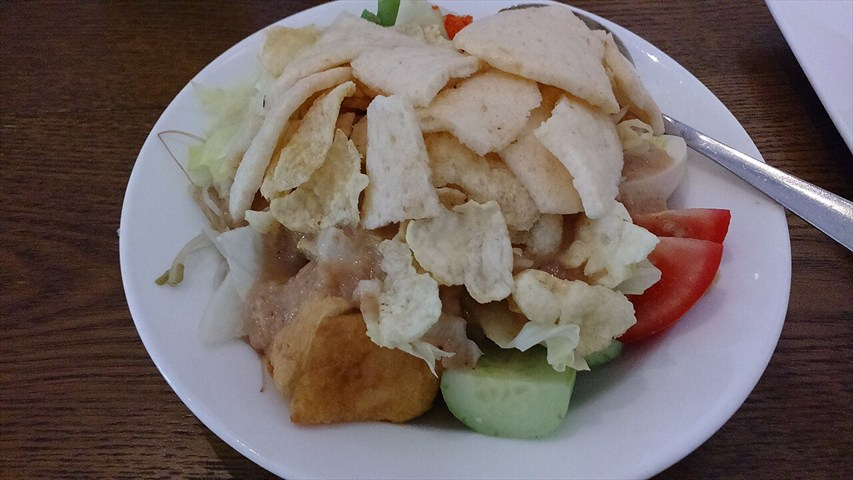Gado-Gado: (109, 11, 824, 421)
